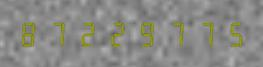eight: (17, 20, 44, 47)
five: (213, 20, 240, 47)
nine: (129, 20, 156, 47)
seven: (45, 20, 72, 47), (157, 20, 184, 47), (185, 20, 212, 47)
two: (73, 20, 100, 47), (101, 20, 128, 47)
